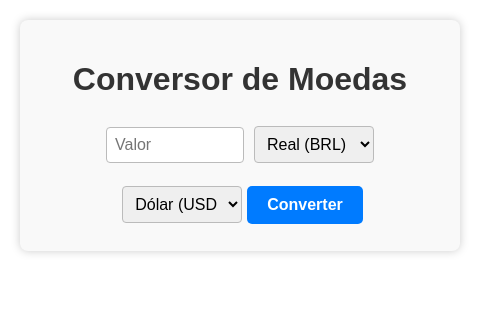
Testes do Conversor de Moedas › 6 - Converte USD para EUR corretamente
Type "5" into the field with test id "input-amount" at (175, 145), box [106,127,244,163]
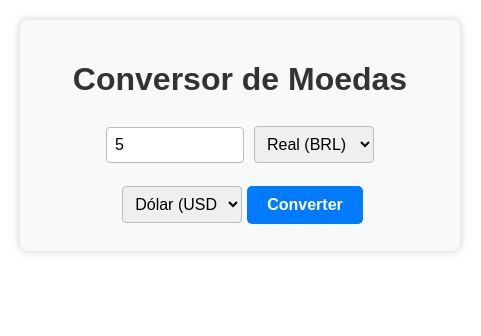
Select "Dólar (USD)" in the dropdown with test id "select-from" at (314, 145), box [254,126,374,163]
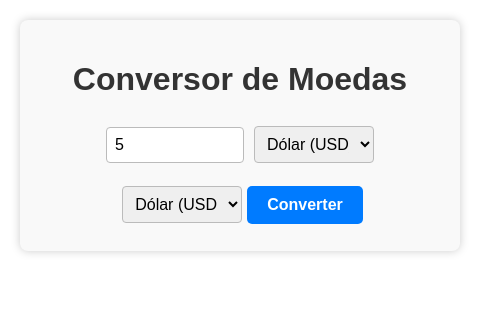
Select "Euro (EUR)" in the dropdown with test id "select-to" at (182, 205), box [122,186,242,223]
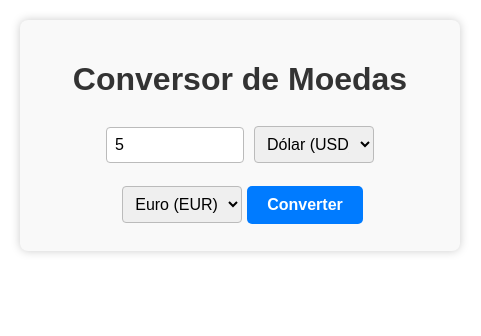
Click the button with test id "btn-convert" at (305, 205), box [247,186,363,224]
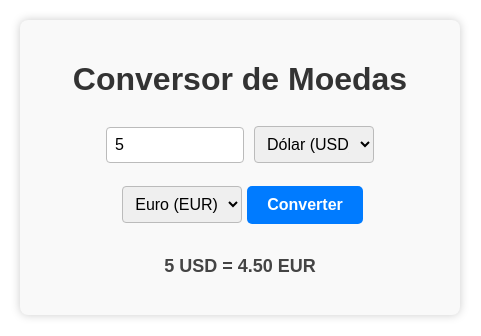
Result: the text with test id "result" reads "5 USD = 4.50 EUR" at [164,256,316,276]
